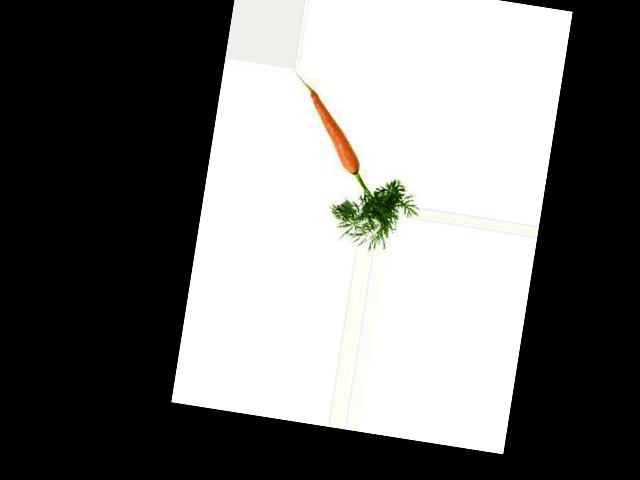carrot: (293, 83, 372, 178)
